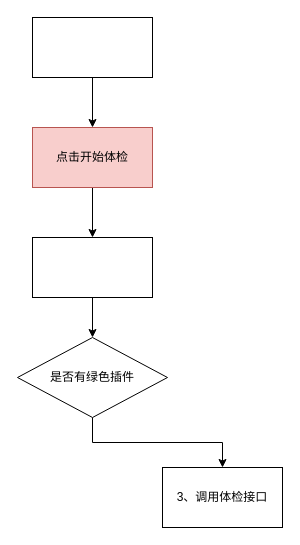
Image size: 300x545. Some labels were removed from this diagram. The centre of each missing label's shape, as x and y in pixels:
"网关体检" goes at [92,47].
"请求接口 1、获取wifi列表 2、获取定时信息" goes at [92,267].
